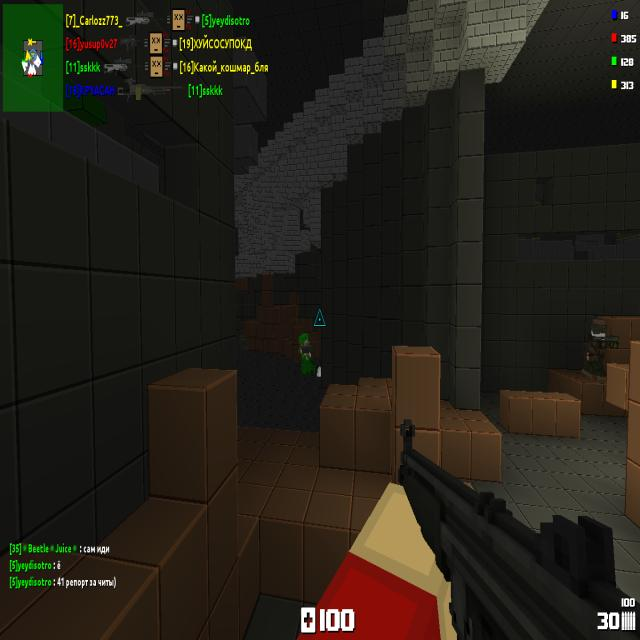enemy: (581, 319, 618, 380), (298, 332, 312, 377)
